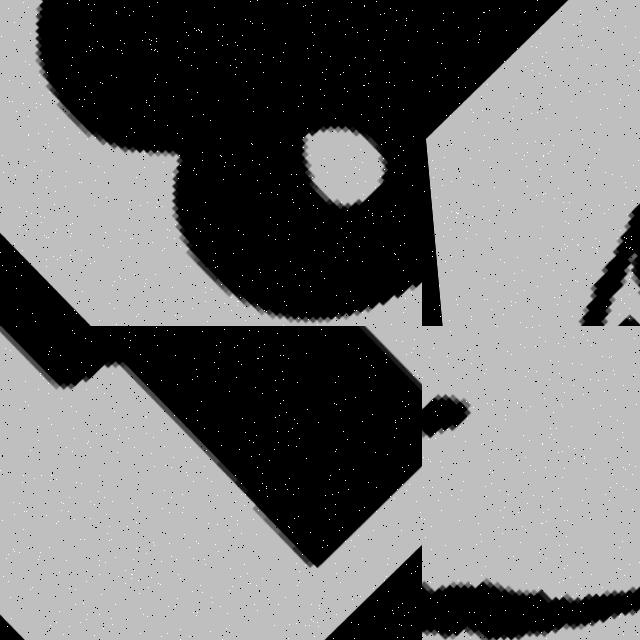1: (0, 326, 422, 640)
8: (0, 0, 422, 326)
K: (422, 326, 640, 640)
W: (539, 78, 640, 326)
